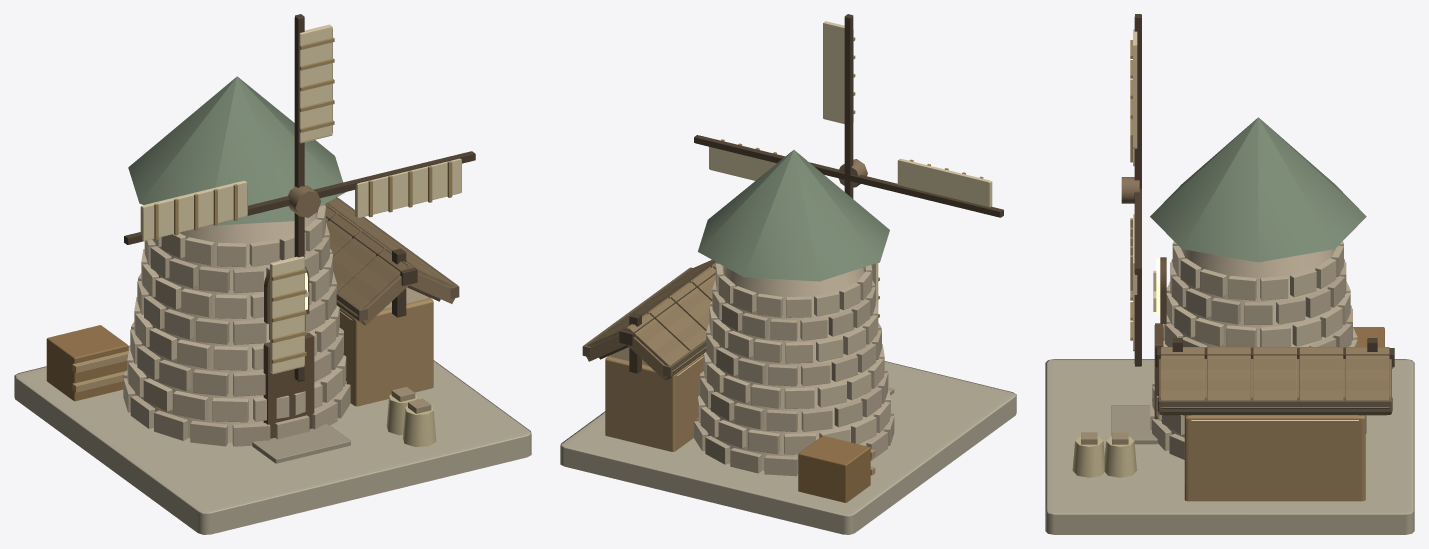
The model's file is mill-1.glb.
The picture shows the model from 3 angles, left to right: view 1: azimuth 30°, elevation 25°; view 2: azimuth 150°, elevation 25°; view 3: azimuth 270°, elevation 25°; orthographic projection. The views are drawn at different scales.
Visible parts, largest first — view 1: mill-1-0, mill-fan; view 2: mill-1-0, mill-fan; view 3: mill-1-0, mill-fan.
Boxes of the visible parts, x1=… form: mill-1-0: x1=14, y1=76, x2=531, y2=534; mill-fan: x1=124, y1=14, x2=475, y2=382; mill-1-0: x1=560, y1=150, x2=1016, y2=534; mill-fan: x1=694, y1=14, x2=1003, y2=317; mill-1-0: x1=1045, y1=117, x2=1414, y2=534; mill-fan: x1=1121, y1=14, x2=1141, y2=366.
Size of the model in its own units: 3.1 by 3.7 by 2.86.
